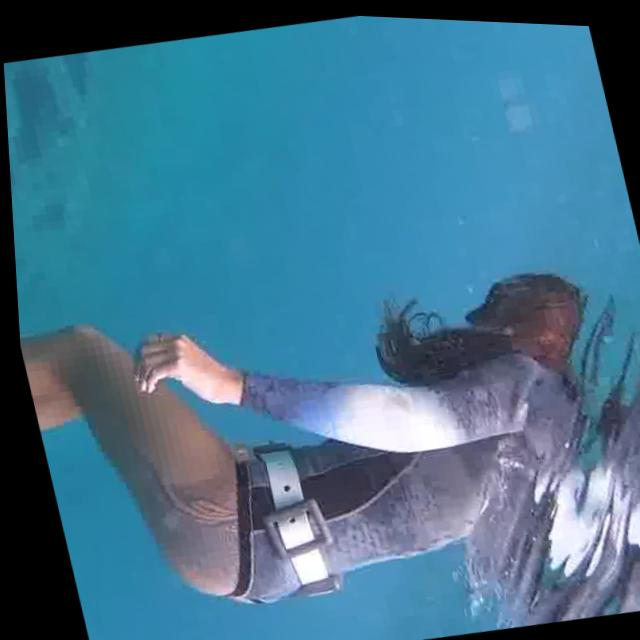human: (8, 165, 640, 640)
